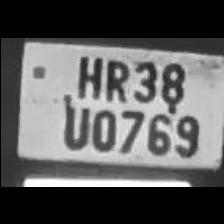0: (87, 100, 115, 152)
3: (128, 53, 158, 103)
6: (142, 108, 170, 156)
7: (114, 103, 142, 153)
8: (156, 57, 186, 104)
9: (170, 108, 200, 156)
H: (70, 48, 103, 100)
R: (101, 52, 129, 100)
U: (56, 96, 89, 150)
